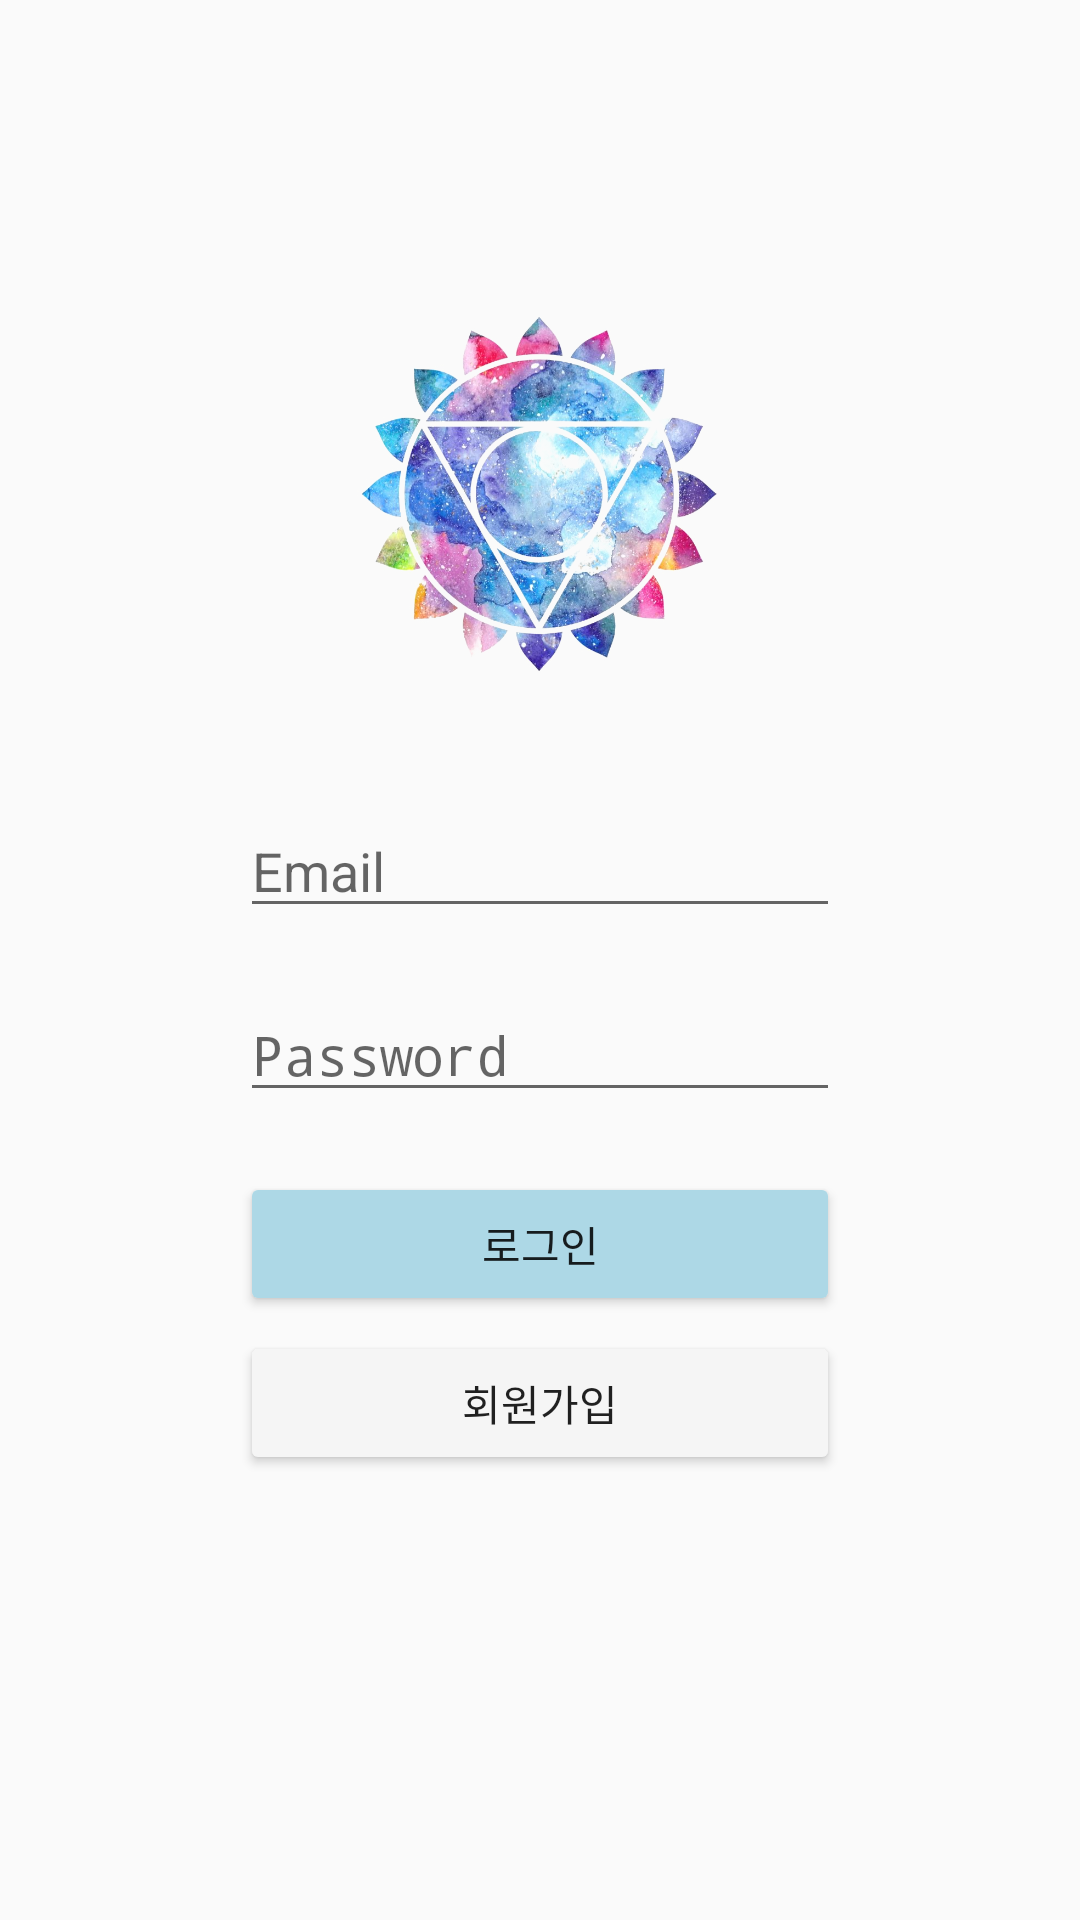

Icons on this 1080×1920 Android screen, each with its box as {"x1": x1, "y1": y1, "x2": x2, "y2": y2}:
chakra: {"x1": 362, "y1": 317, "x2": 717, "y2": 671}
